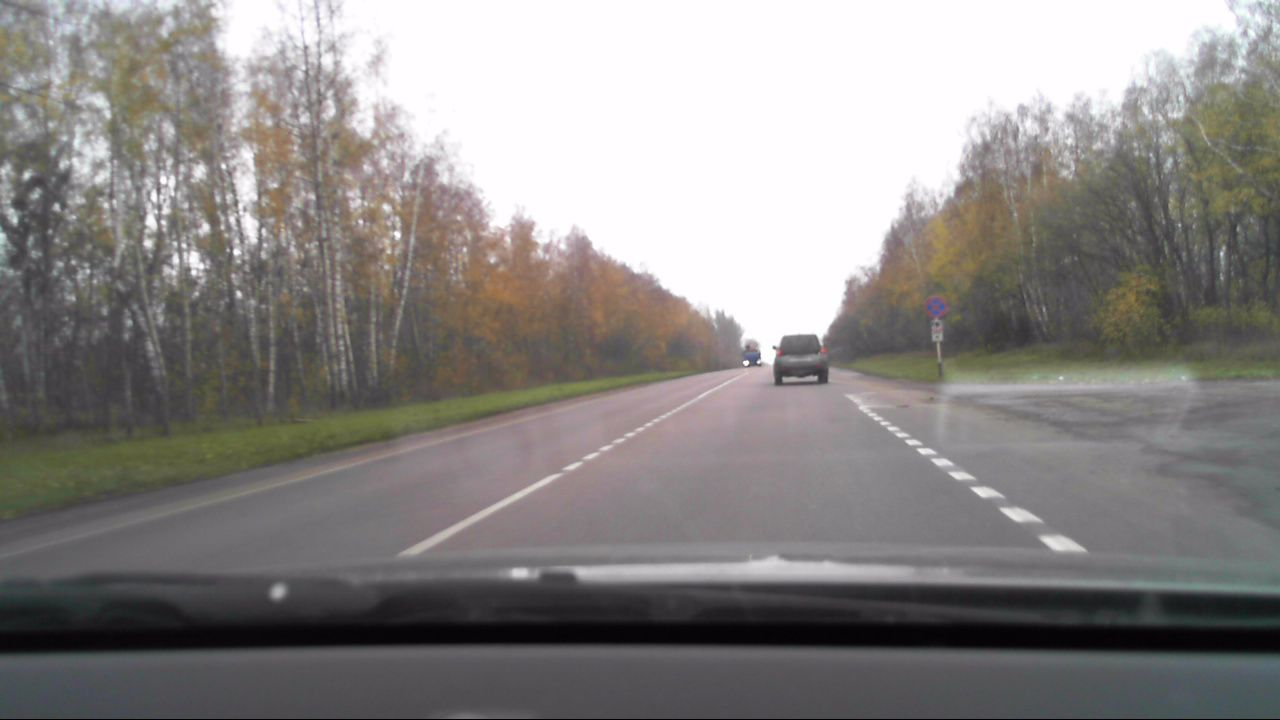No Parking: (924, 294, 945, 316)
